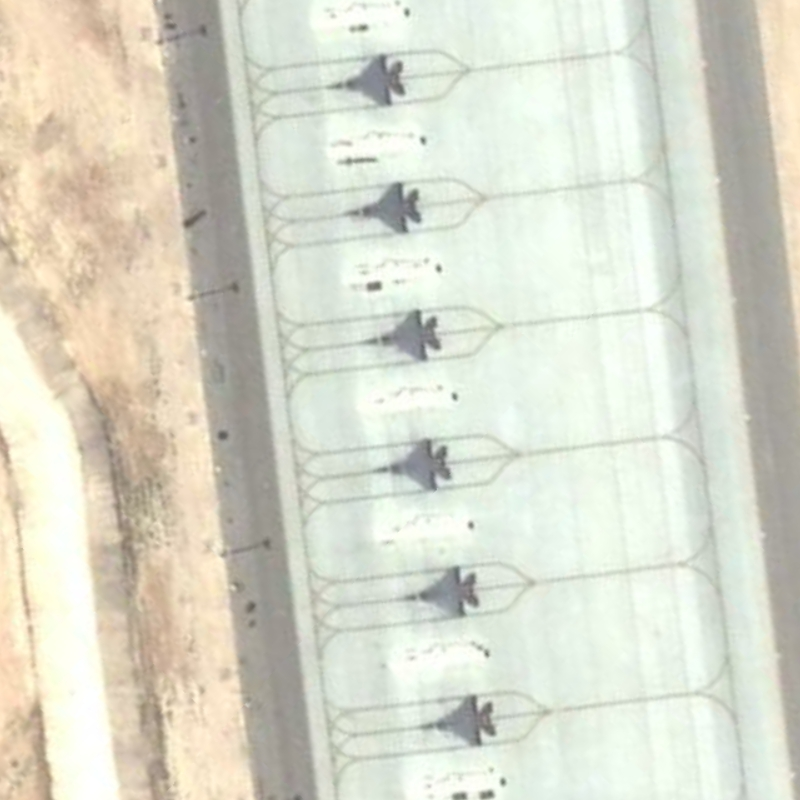A5: (315, 47, 415, 111), (363, 434, 461, 498), (353, 304, 448, 370), (410, 690, 506, 755), (343, 175, 431, 241), (397, 564, 485, 616)
